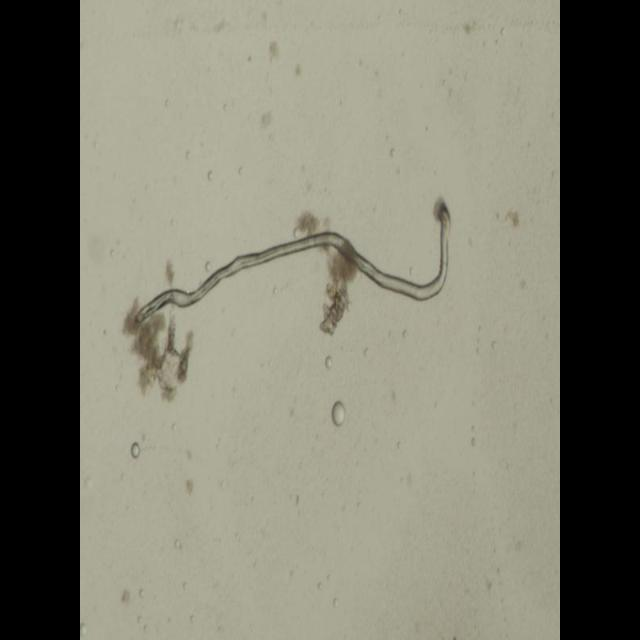Fibre: (133, 197, 451, 335)
